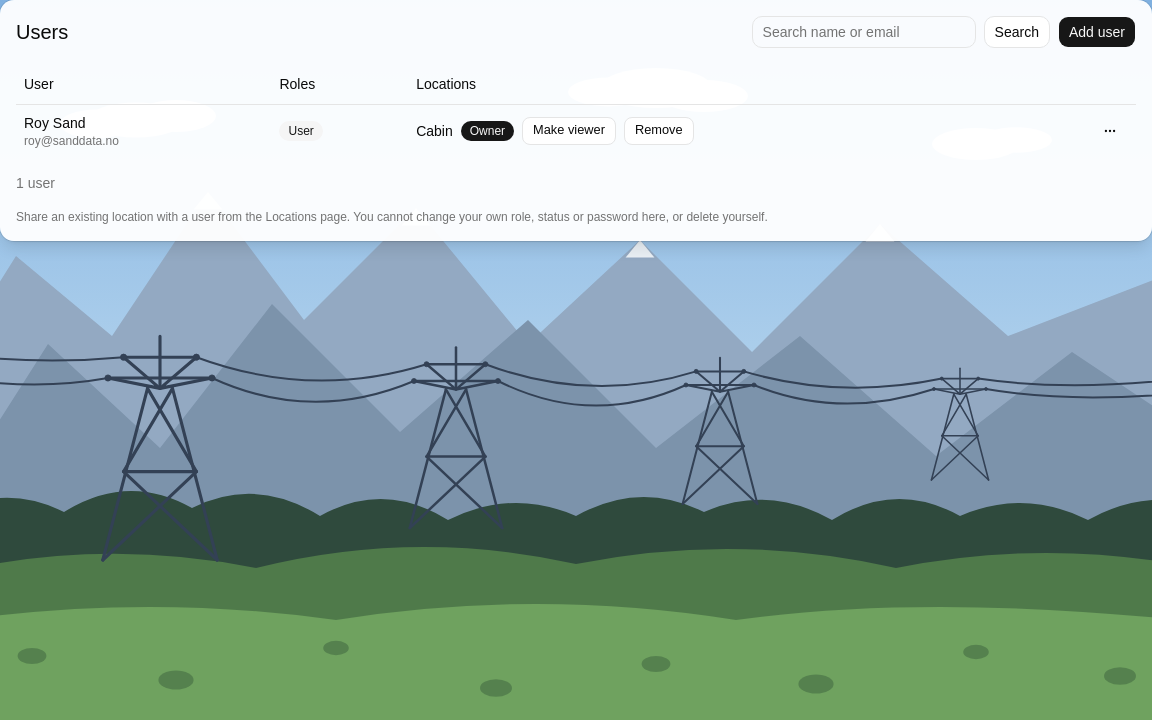
UsersPage location actions › allows adding a meter for a user with a location
The width and height of the screenshot is (1152, 720).
Click the button named "Actions for roy@sanddata.no". click: [1110, 130]
box: [1092, 116, 1128, 144]
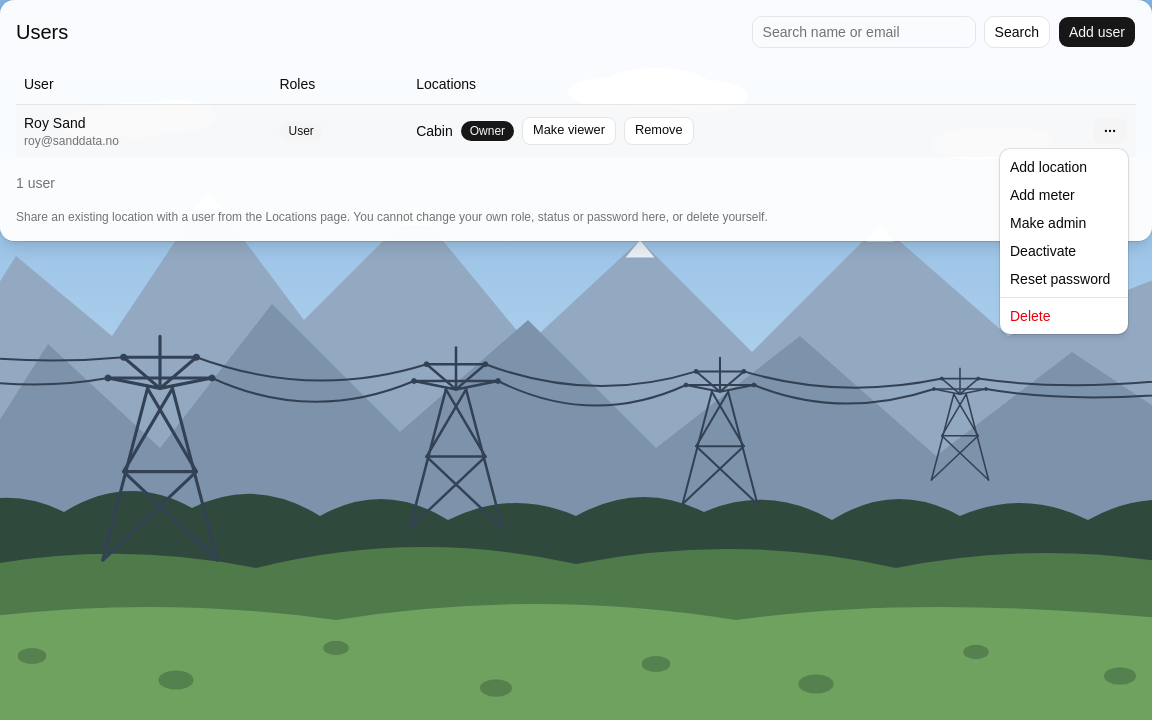
Click the menu item "Add meter". click: [1042, 195]
box: [1010, 187, 1075, 203]
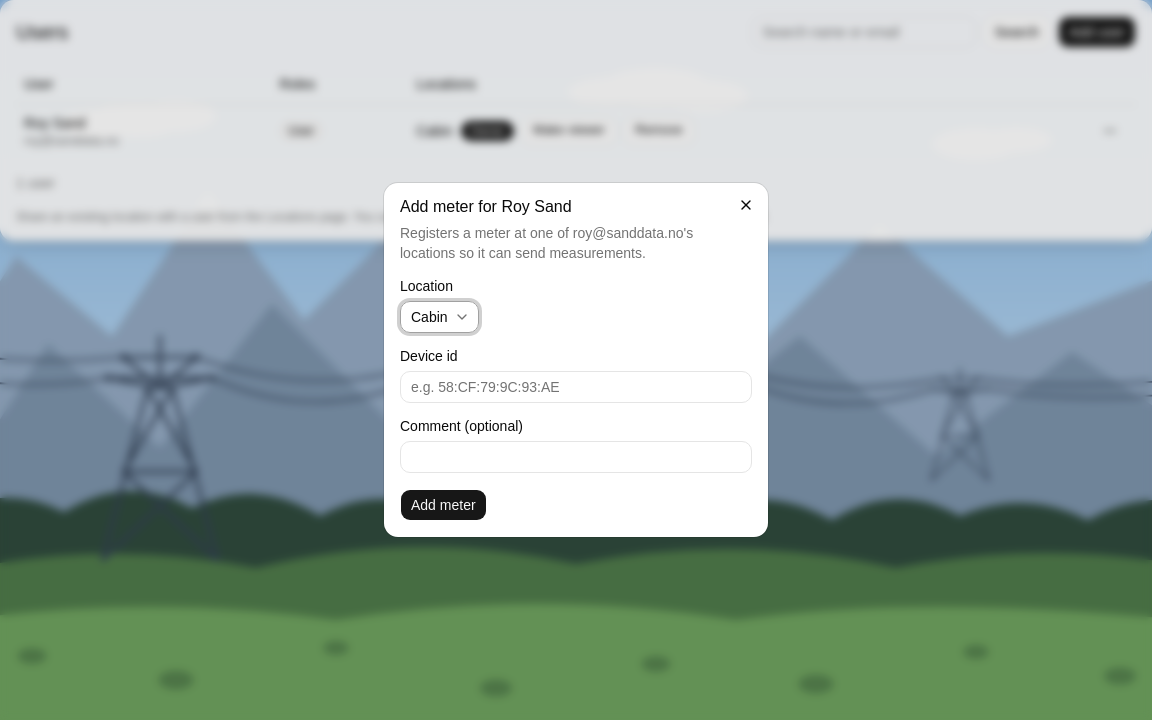
Result: the dialog shows "Add meter for Roy Sand" at [384, 183, 768, 537]
